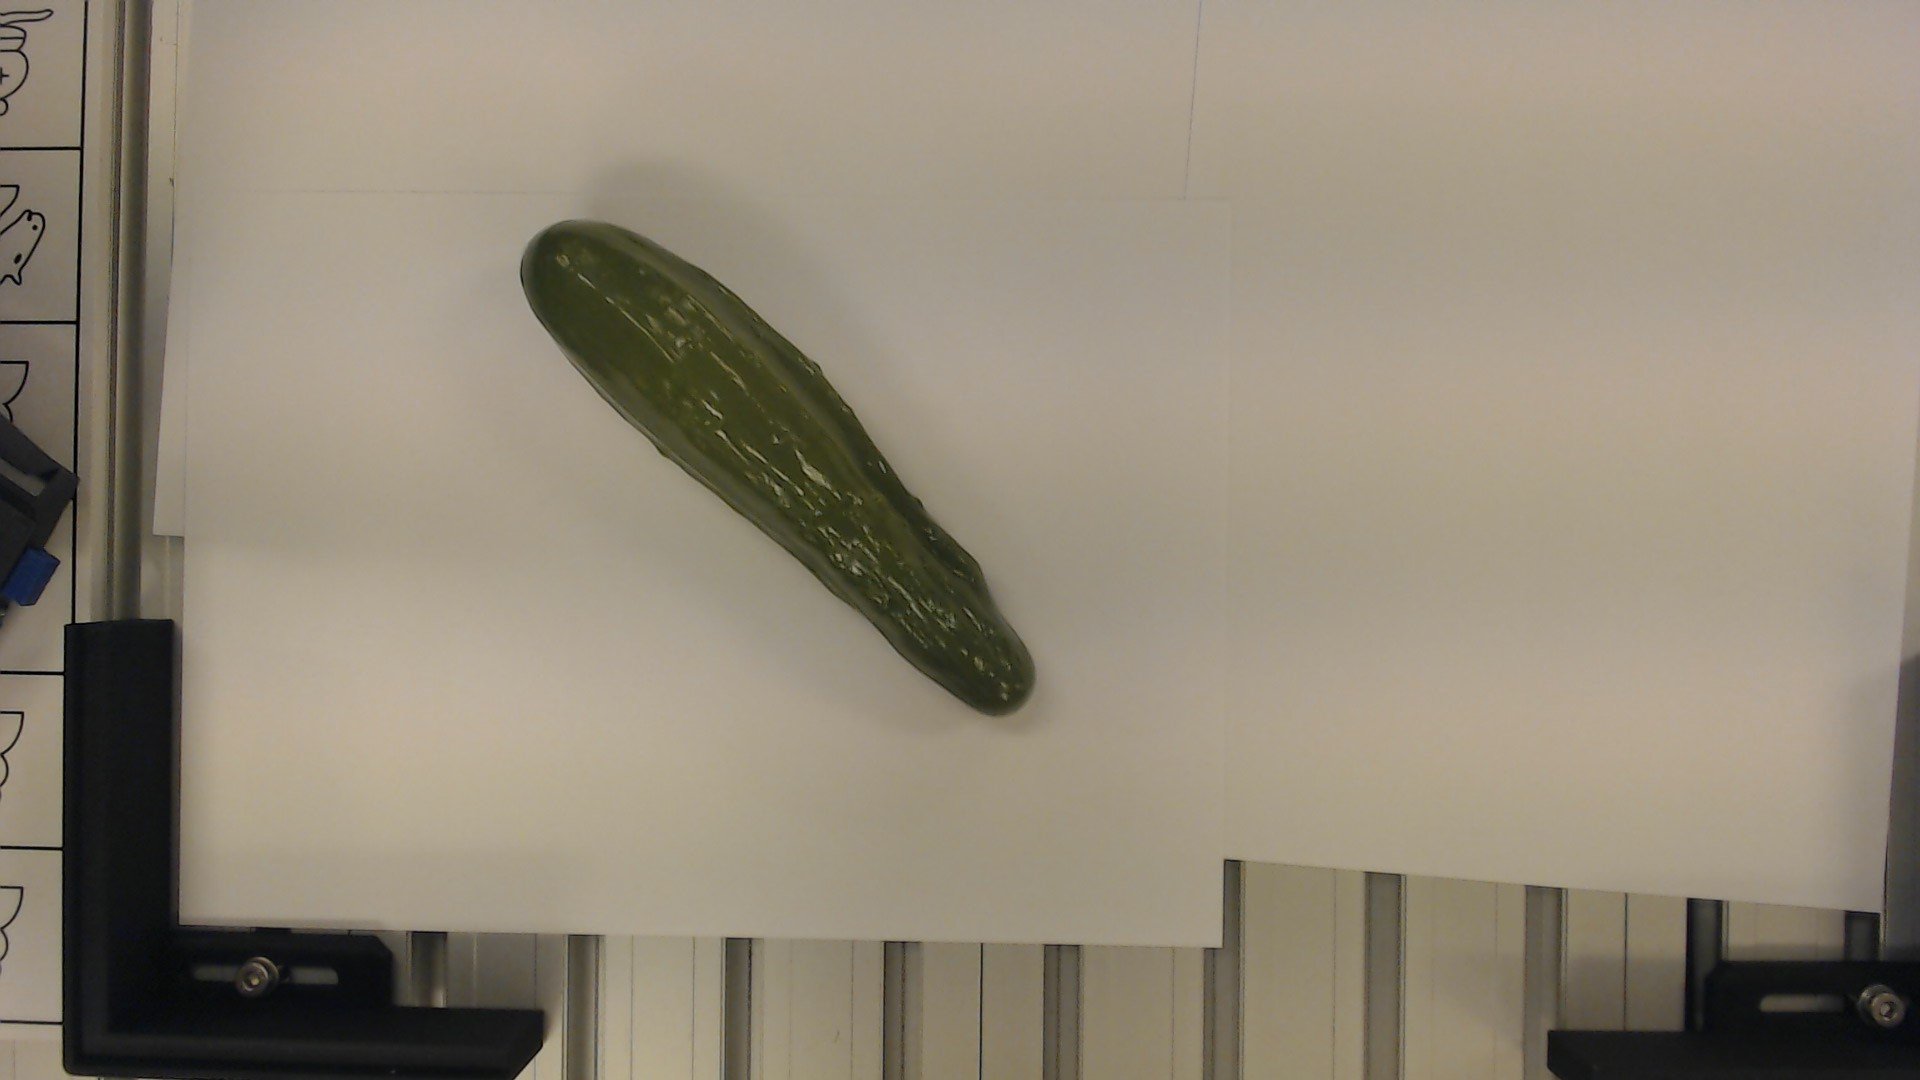Cucumber: (501, 211, 1039, 719)
